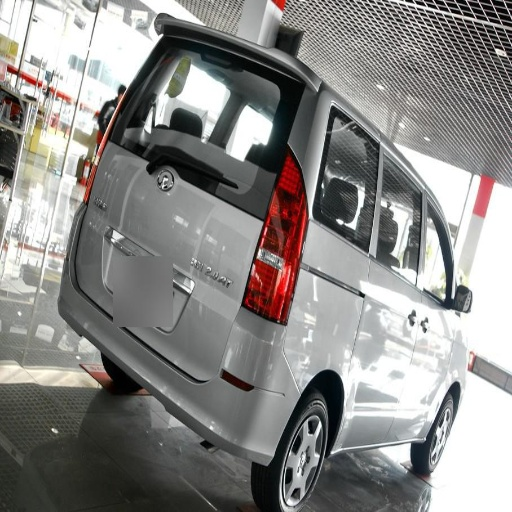back_bumper: (97, 311, 300, 500)
back_right_door: (351, 248, 416, 401)
tailgate: (230, 160, 268, 220)
trunk: (83, 154, 265, 359)
